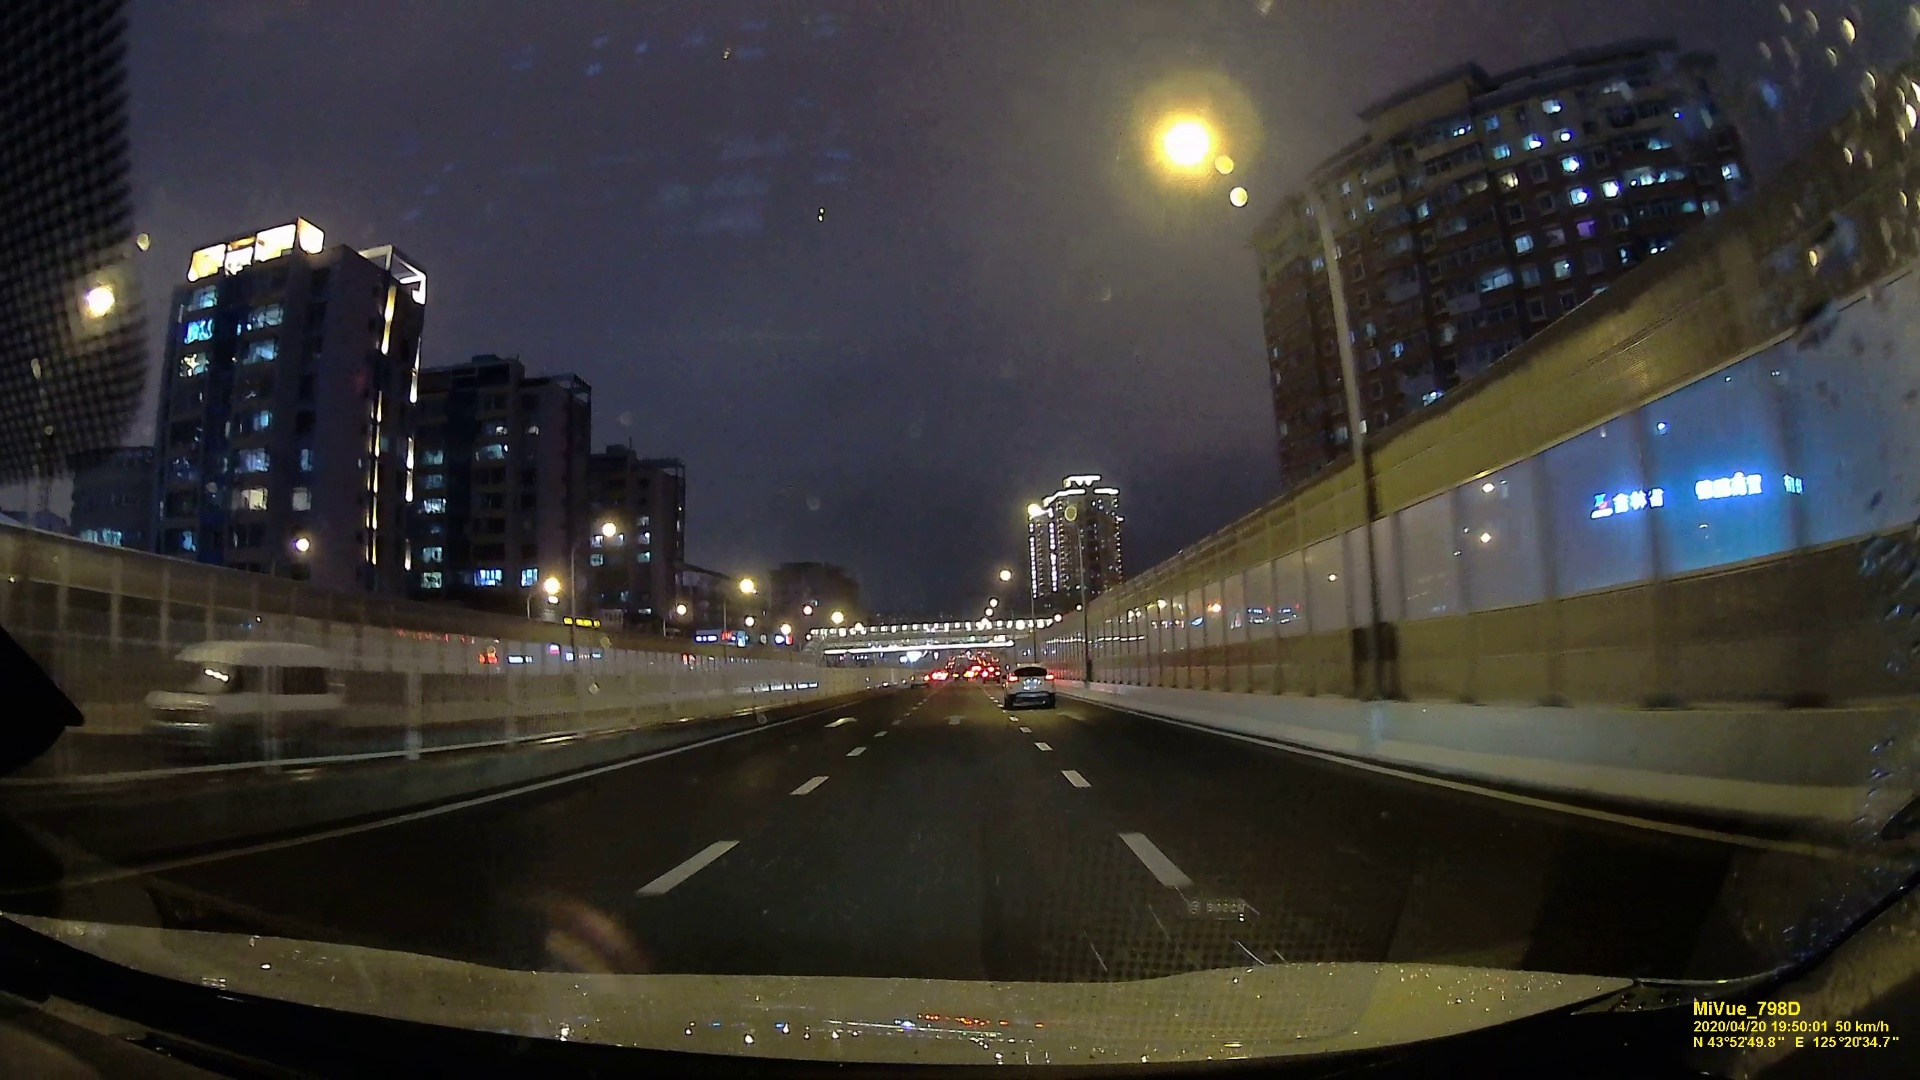minibus: (142, 641, 348, 758)
vehicle: (1004, 661, 1058, 709)
